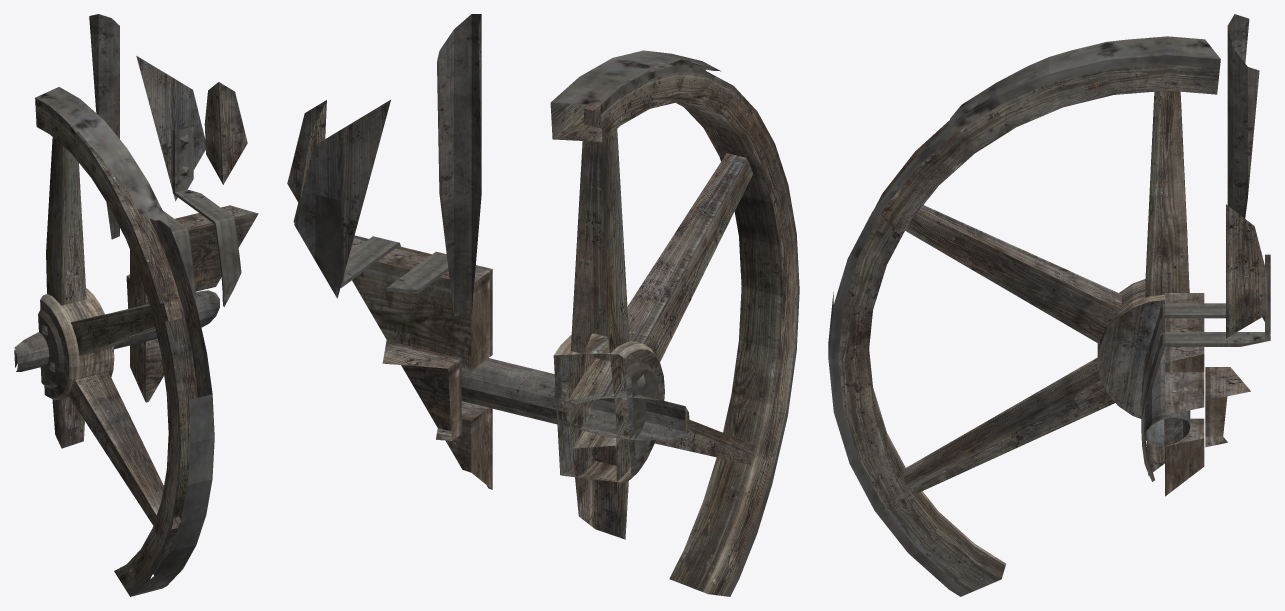
File: Wagon3_22.fbx
3 renders of one model, left to right at view 1: azimuth 30°, elevation 25°; view 2: azimuth 150°, elevation 25°; view 3: azimuth 270°, elevation 25°, orthographic. The views are drawn at different scales.
Visible parts, largest first — view 1: SM_Wagon03_DM.022; view 2: SM_Wagon03_DM.022; view 3: SM_Wagon03_DM.022.
Boxes of the visible parts, x1,y1,x2,y2 form: SM_Wagon03_DM.022: (14,14,258,596); SM_Wagon03_DM.022: (287,14,799,596); SM_Wagon03_DM.022: (828,14,1270,596).
Bounding box in the file's own units: 6936 × 12296 × 8035.
